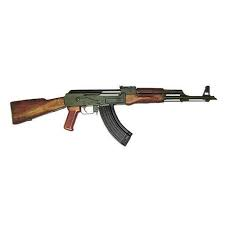rifle: (10, 85, 217, 146)
